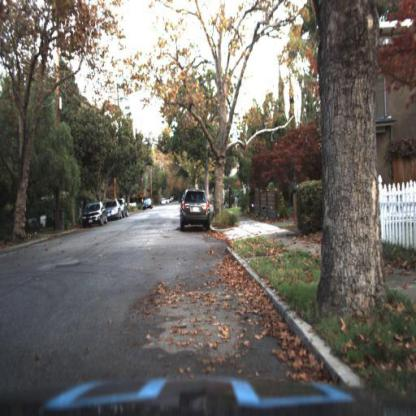car: (179, 189, 212, 233), (81, 199, 108, 230), (105, 201, 121, 226), (143, 196, 155, 211), (120, 200, 127, 221)
